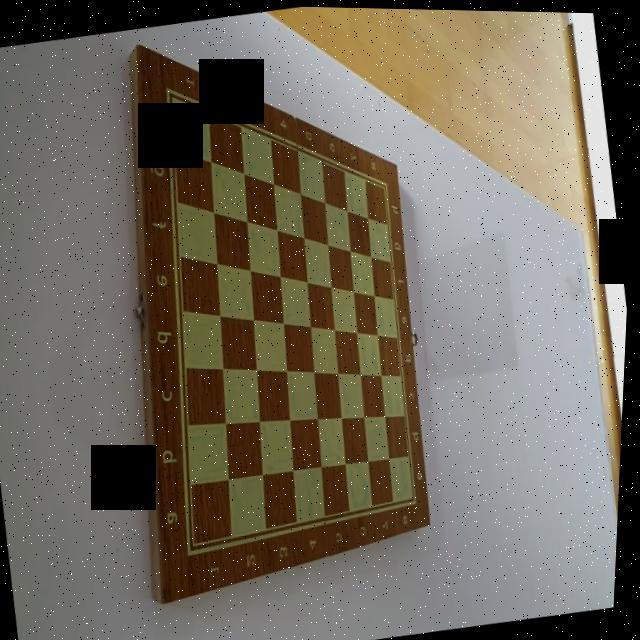chess-table-corners: (186, 532, 210, 560), (160, 79, 183, 107), (376, 171, 397, 198), (410, 483, 428, 508)
